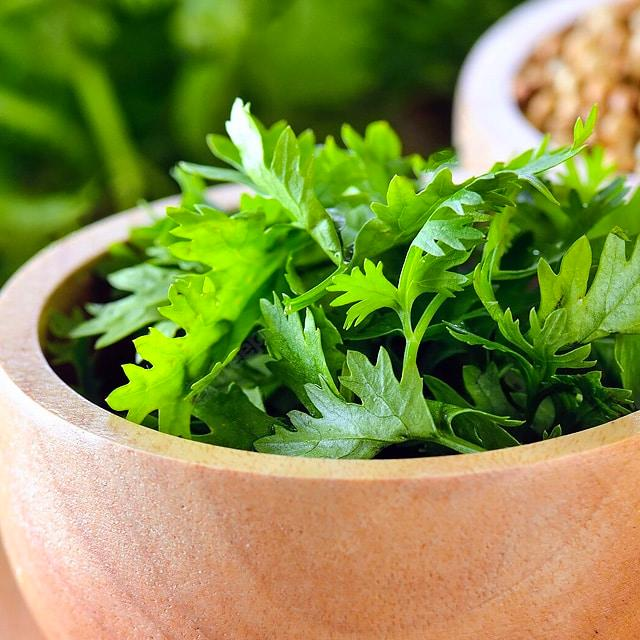cilantro: (38, 108, 640, 464)
